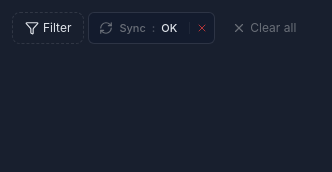
FilterChipBar › closes single status filter after selecting an option
Click the button "Sync : OK". click: (137, 28)
box: [89, 13, 185, 43]
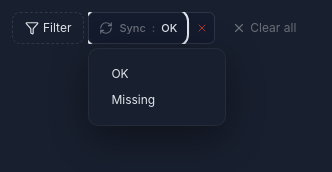
Click the button "Missing". click: (157, 100)
box: [101, 87, 213, 113]
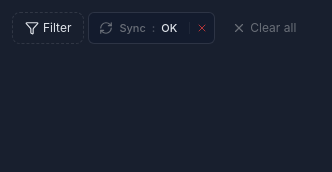
Result: the button "Missing" is gone
